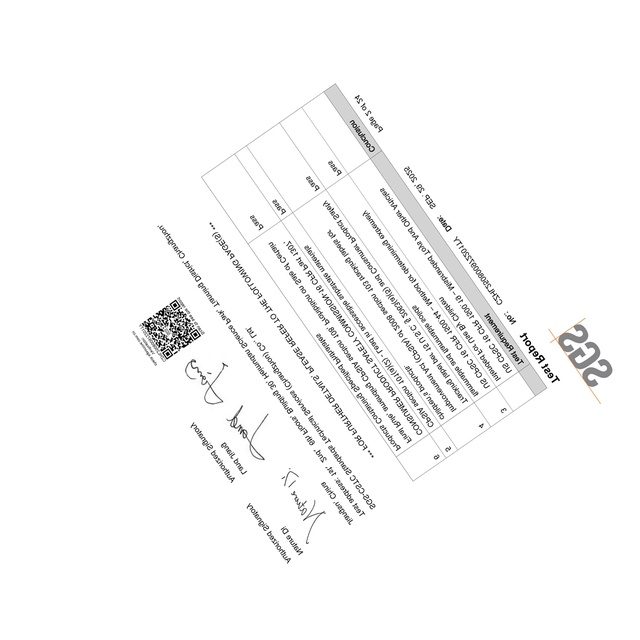sgs: (560, 323, 612, 387)
